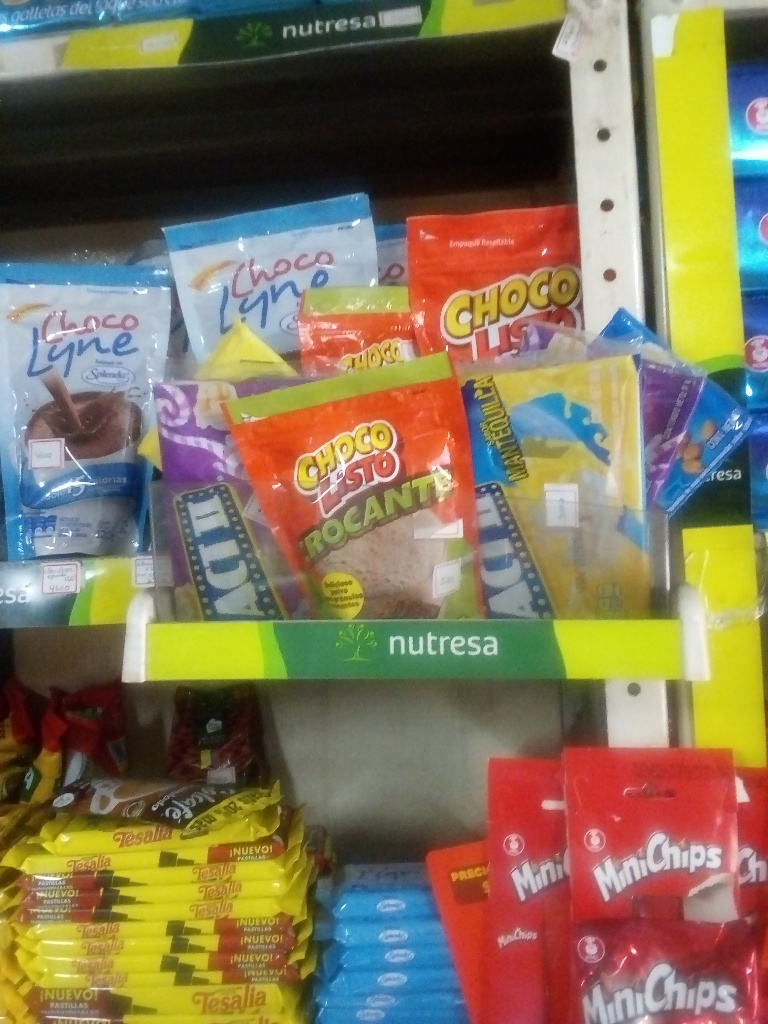COL0170102DYP10000: (227, 350, 482, 622)
